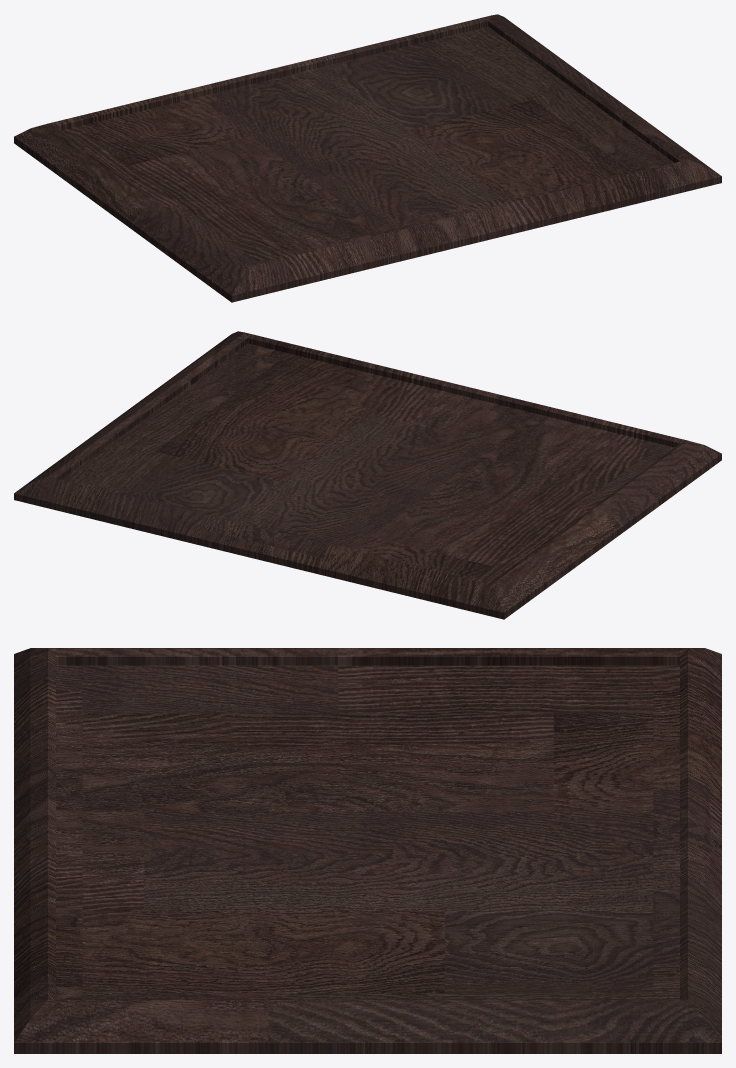
File: фото .fbx
The picture shows the model from 3 angles, top to bottom: view 1: azimuth 30°, elevation 25°; view 2: azimuth 150°, elevation 25°; view 3: azimuth 270°, elevation 25°; orthographic projection. The views are drawn at different scales.
Parts seen in each view (by area): view 1: Плоскость.011; view 2: Плоскость.011; view 3: Плоскость.011.
Part boxes in pixels (<box>): Плоскость.011: <box>14,14,721,302</box>; Плоскость.011: <box>14,331,721,619</box>; Плоскость.011: <box>14,648,721,1053</box>.
Size of the model in its own units: 260 by 10.96 by 200.
Materials: 1 (1 with a texture image).
